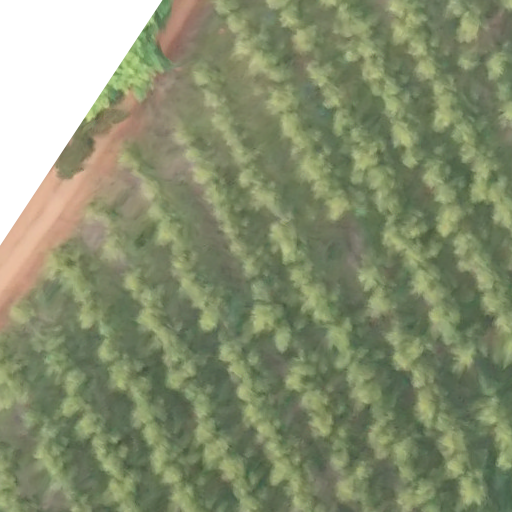eucalipto: (269, 210, 312, 271), (385, 328, 429, 368), (366, 412, 404, 455), (355, 292, 402, 324), (139, 310, 180, 346), (301, 281, 339, 317), (283, 362, 322, 397), (273, 109, 315, 141), (246, 179, 285, 213), (125, 275, 166, 307), (128, 394, 169, 426), (74, 297, 110, 332), (296, 150, 333, 183), (70, 409, 108, 441), (263, 85, 302, 116), (352, 265, 394, 293), (190, 58, 226, 90), (322, 320, 357, 352), (390, 439, 422, 473), (289, 23, 324, 54), (324, 442, 359, 473), (210, 111, 246, 141), (56, 394, 92, 424), (298, 387, 335, 416), (105, 228, 137, 261), (93, 334, 125, 367), (417, 386, 449, 419), (186, 387, 220, 418), (431, 101, 465, 132), (137, 419, 175, 446), (153, 215, 185, 247), (188, 417, 221, 448), (410, 53, 443, 84), (436, 428, 470, 458), (307, 58, 342, 87), (148, 443, 180, 474), (251, 304, 285, 333), (454, 44, 488, 73), (214, 336, 250, 363), (397, 141, 429, 171), (304, 411, 339, 438), (349, 382, 384, 408), (320, 191, 351, 220), (450, 340, 479, 371), (193, 311, 227, 335), (455, 10, 482, 39), (192, 159, 220, 186), (252, 48, 280, 75), (180, 141, 208, 168), (55, 370, 84, 396), (222, 12, 251, 38), (483, 50, 509, 78), (258, 418, 286, 444), (118, 144, 145, 166)
